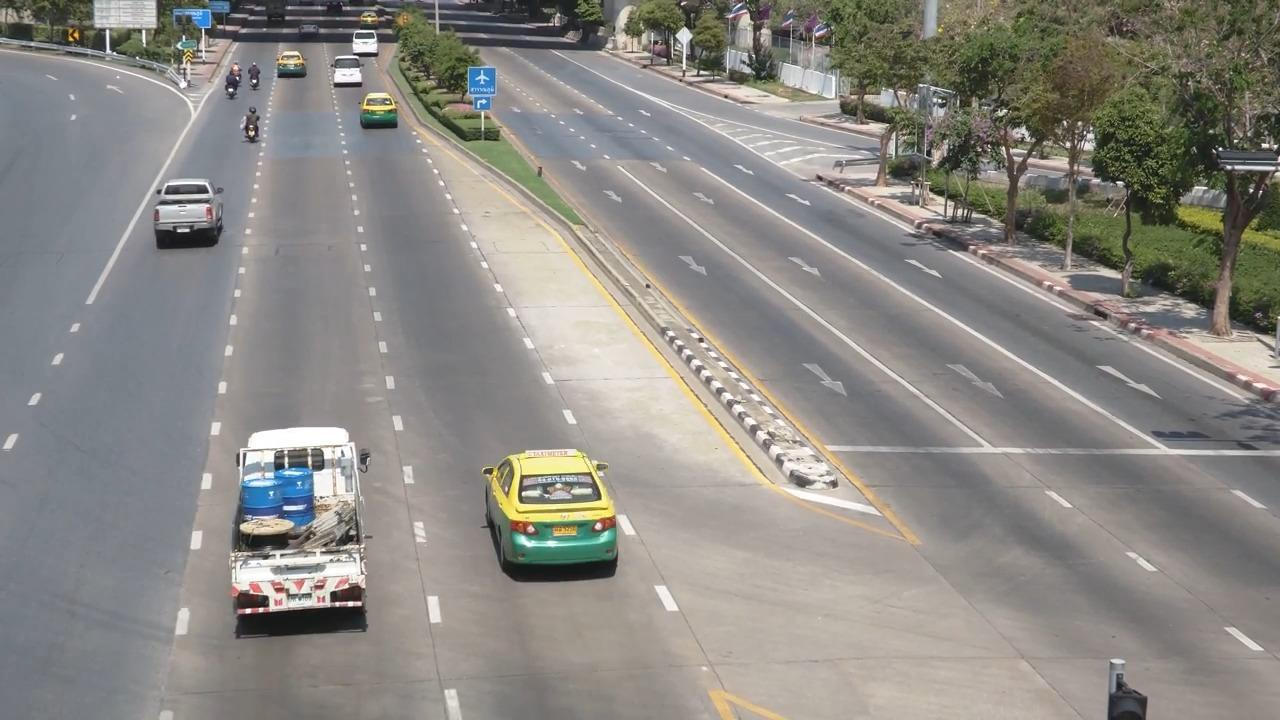CAR: (197, 423, 412, 633), (463, 442, 638, 581), (138, 174, 236, 274), (346, 88, 416, 151), (321, 54, 383, 91), (270, 42, 319, 87), (347, 22, 388, 63)
MOTOR: (231, 103, 280, 165), (238, 65, 276, 112), (216, 64, 250, 111)
